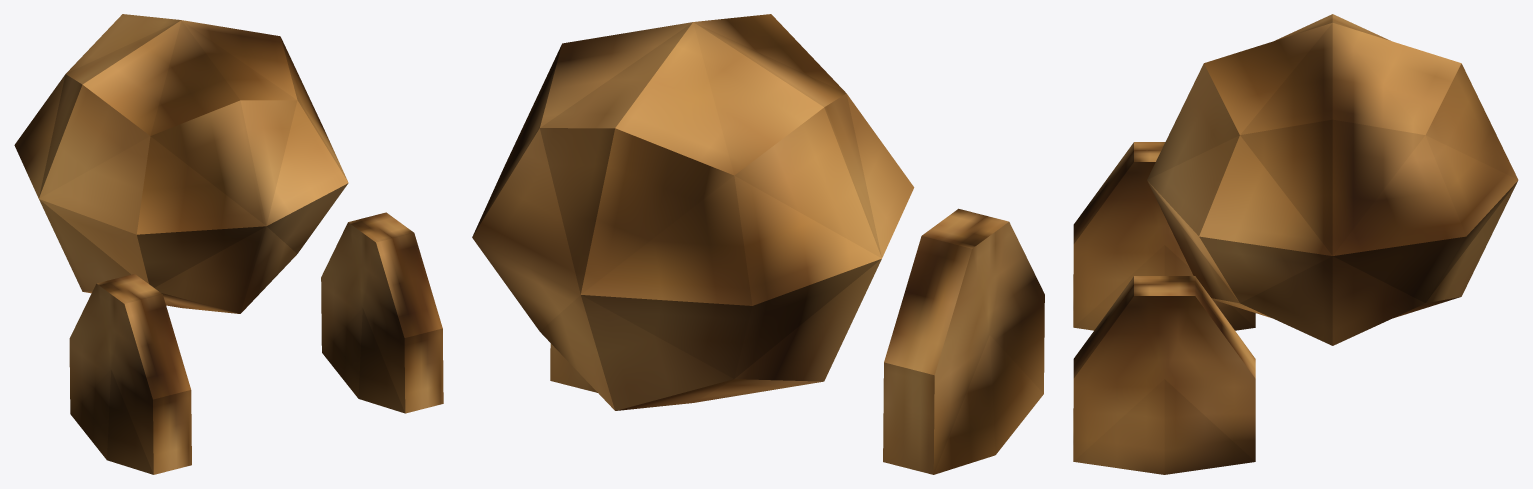
Rendered from hair_female_05.dae.
3 renders of one model, left to right at view 1: azimuth 30°, elevation 25°; view 2: azimuth 150°, elevation 25°; view 3: azimuth 270°, elevation 25°, orthographic. The views are drawn at different scales.
Parts seen in each view (by area): view 1: a_hair_female_05; view 2: a_hair_female_05; view 3: a_hair_female_05.
Boxes of the visible parts, <box> form: a_hair_female_05: <box>14,14,443,474</box>; a_hair_female_05: <box>472,14,1044,474</box>; a_hair_female_05: <box>1073,14,1518,474</box>.
Bounding box in the file's own units: 0.4833 × 0.5779 × 0.543.
